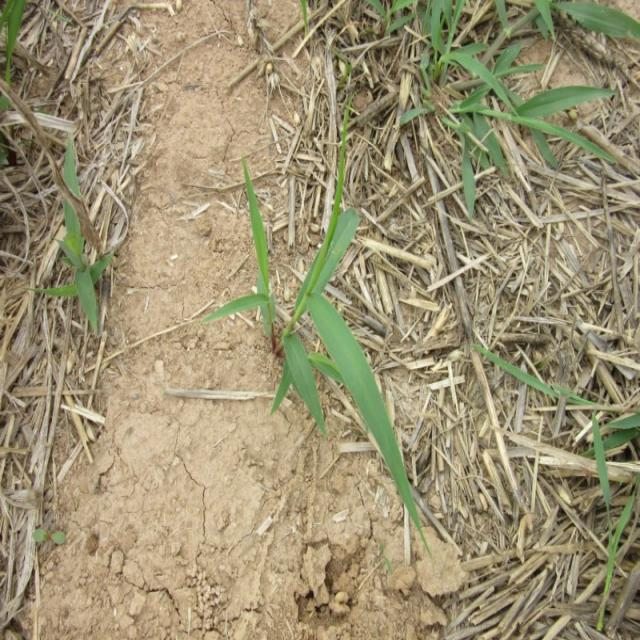bg: (210, 68, 421, 530)
